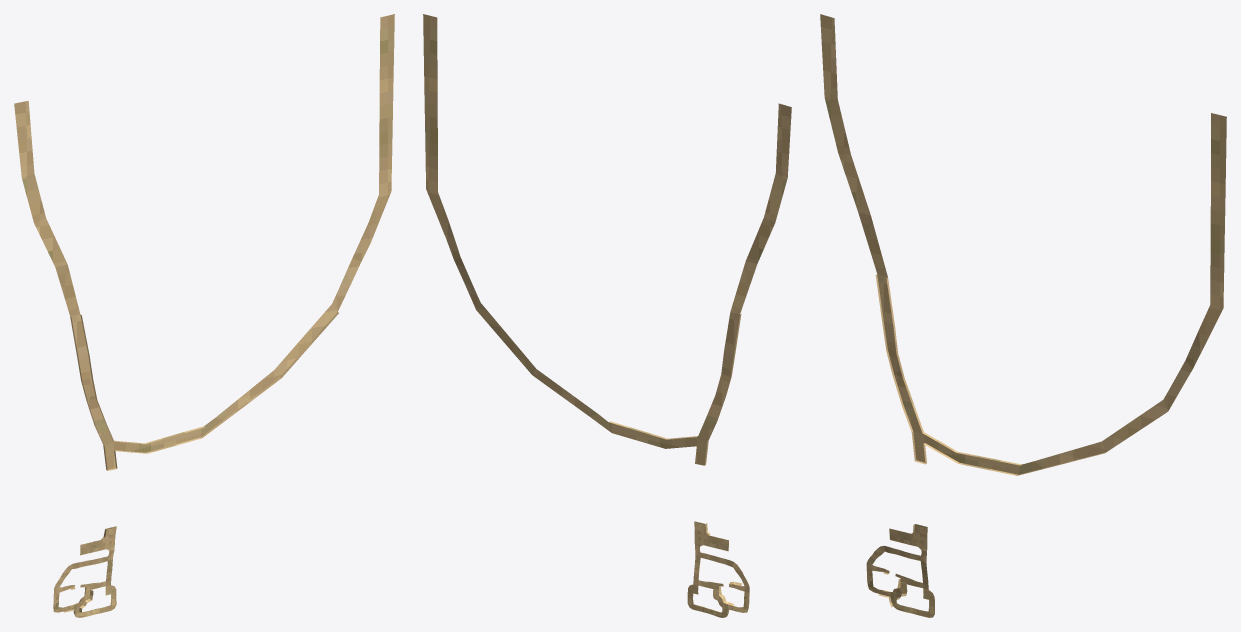
The model's file is Pathways.fbx.
3 renders of one model, left to right at view 1: azimuth 30°, elevation 25°; view 2: azimuth 150°, elevation 25°; view 3: azimuth 330°, elevation 25°, orthographic. The views are drawn at different scales.
Visible parts, largest first — view 1: landscape; view 2: landscape; view 3: landscape.
Boxes of the visible parts, x1=… form: landscape: x1=14, y1=14, x2=394, y2=617; landscape: x1=423, y1=14, x2=791, y2=617; landscape: x1=820, y1=14, x2=1226, y2=617.
Bounding box in the file's own units: 53367 × 72042 × 1808.
Materials: 1 (1 with a texture image).
